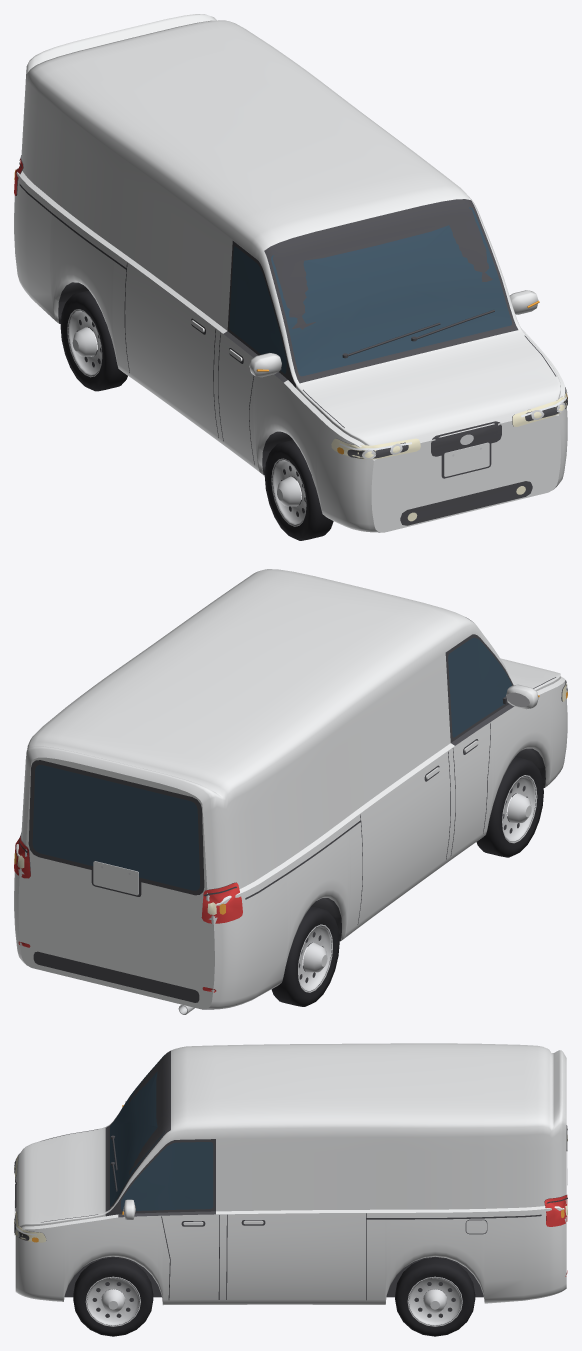
File: 0_close.fbx
3 views of the same model, one above another, from view 1: azimuth 30°, elevation 25°; view 2: azimuth 150°, elevation 25°; view 3: azimuth 270°, elevation 25° (orthographic). The views are drawn at different scales.
Parts seen in each view (by area): view 1: 13_0_close; view 2: 13_0_close; view 3: 13_0_close.
Boxes of the visible parts, x1,y1,x2,y2 form: 13_0_close: (14, 14, 567, 540); 13_0_close: (14, 569, 567, 1014); 13_0_close: (14, 1043, 567, 1336).
Bounding box in the file's own units: 2.07 × 1.91 × 4.42.
